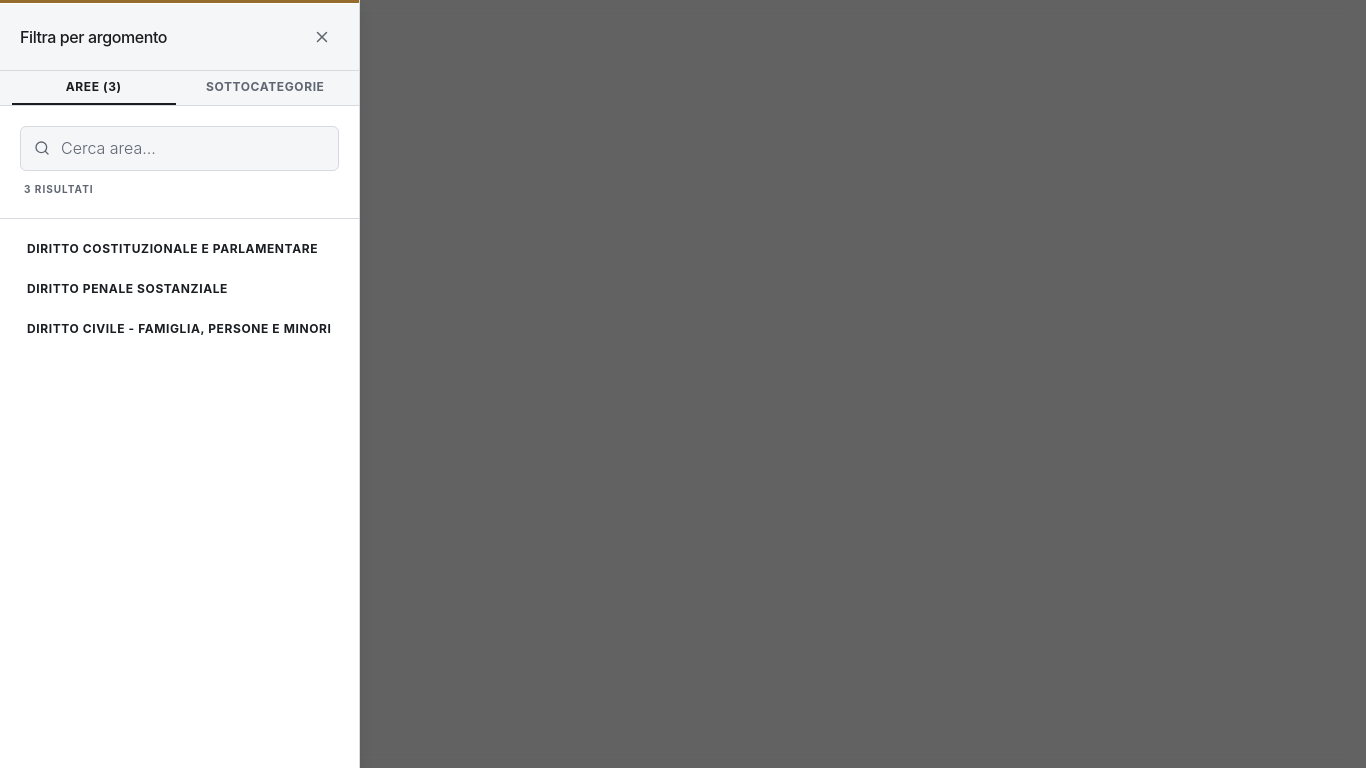
Scenario: LeftPickerPanel Component Suite › filtra dinamicamente la lista in base al termine di ricerca inserito
The width and height of the screenshot is (1366, 768).
Type "Penale" into the field with placeholder "Cerca area…" at (180, 148), box [20, 126, 339, 171]
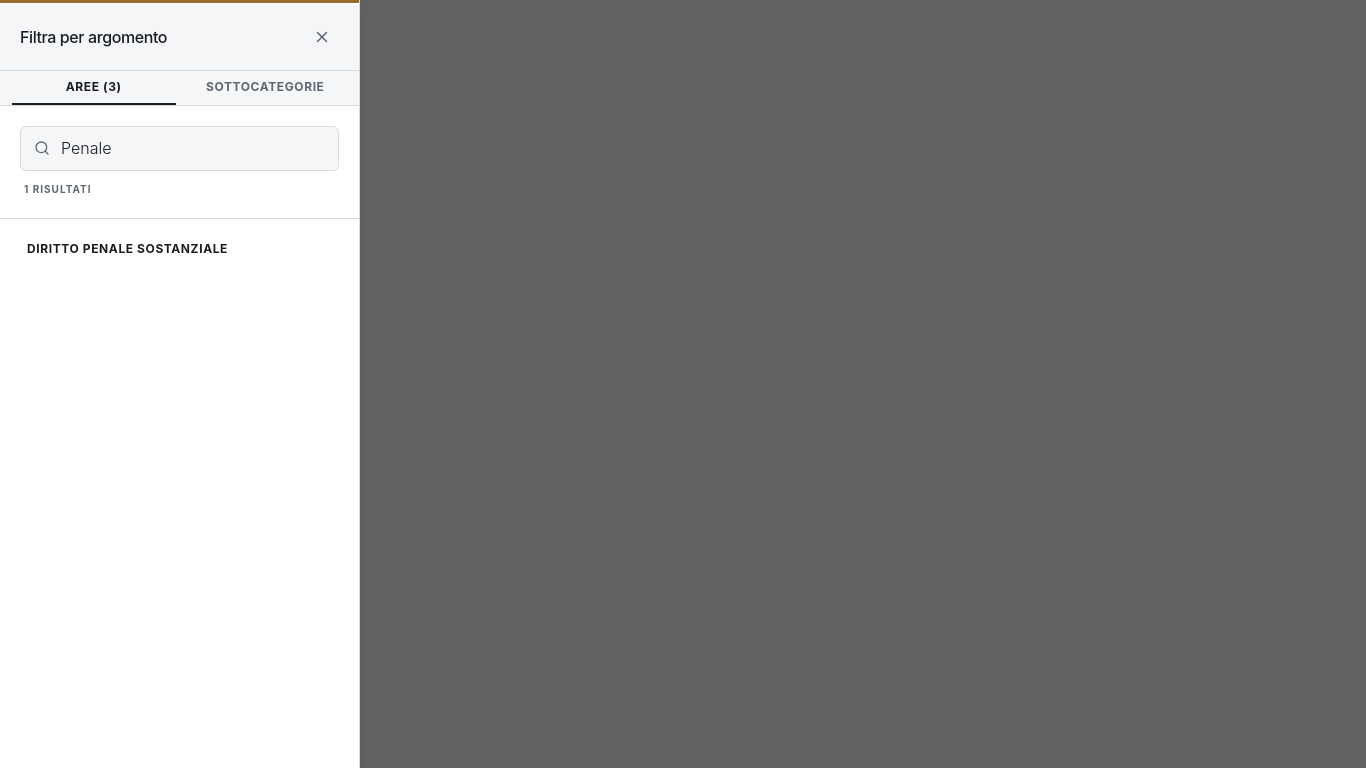
Result: the button "Diritto Penale Sostanziale" is shown at [12, 231, 347, 267]
Result: the button "Diritto Costituzionale" is gone
